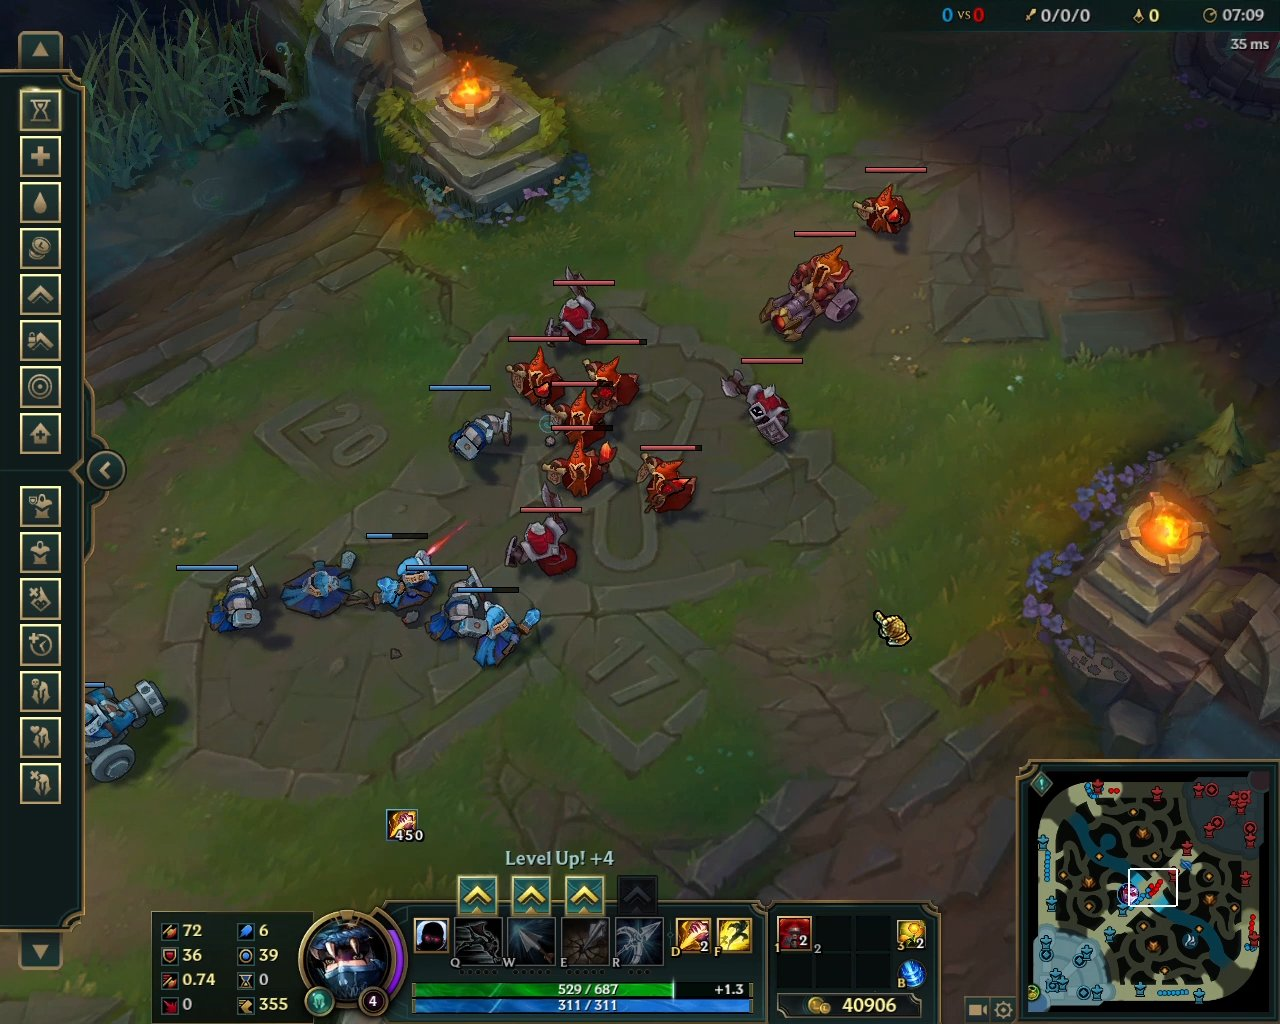EnemyMinion: (758, 229, 858, 350), (502, 482, 586, 585), (720, 354, 807, 449), (539, 421, 621, 501), (544, 266, 620, 351), (632, 442, 705, 520), (542, 380, 618, 451), (581, 338, 650, 413), (855, 166, 925, 238), (504, 336, 571, 409)
